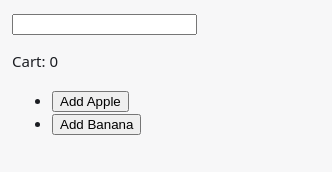
Scenario: useMemo / useCallback › works end to end
The width and height of the screenshot is (332, 172).
Click the button "Add Apple" at x=90, y=101, box [52,90,129,112]
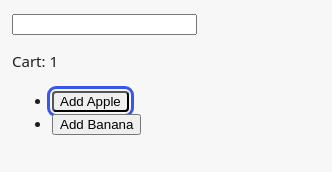
Expected: the text "Cart: 1" is shown, [12,51,58,71]
